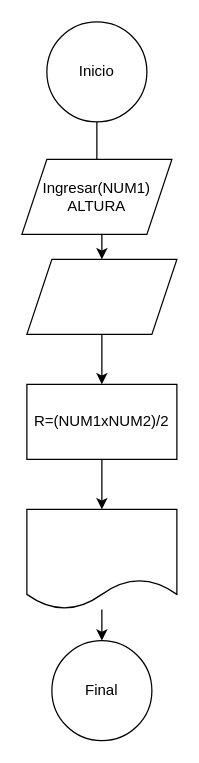
Some shapes in this 199 by 763 pixel diagram are drawn without their labels. Each missing label, with the centre of its shape:
Imprimir "R": [101,558]
Ingresar(NUM2) BASE: [101,296]
